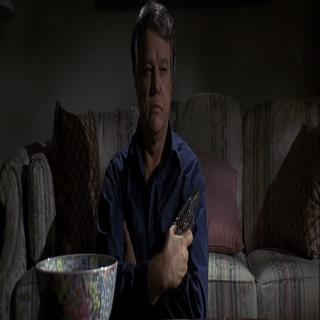gun: (164, 190, 200, 288)
